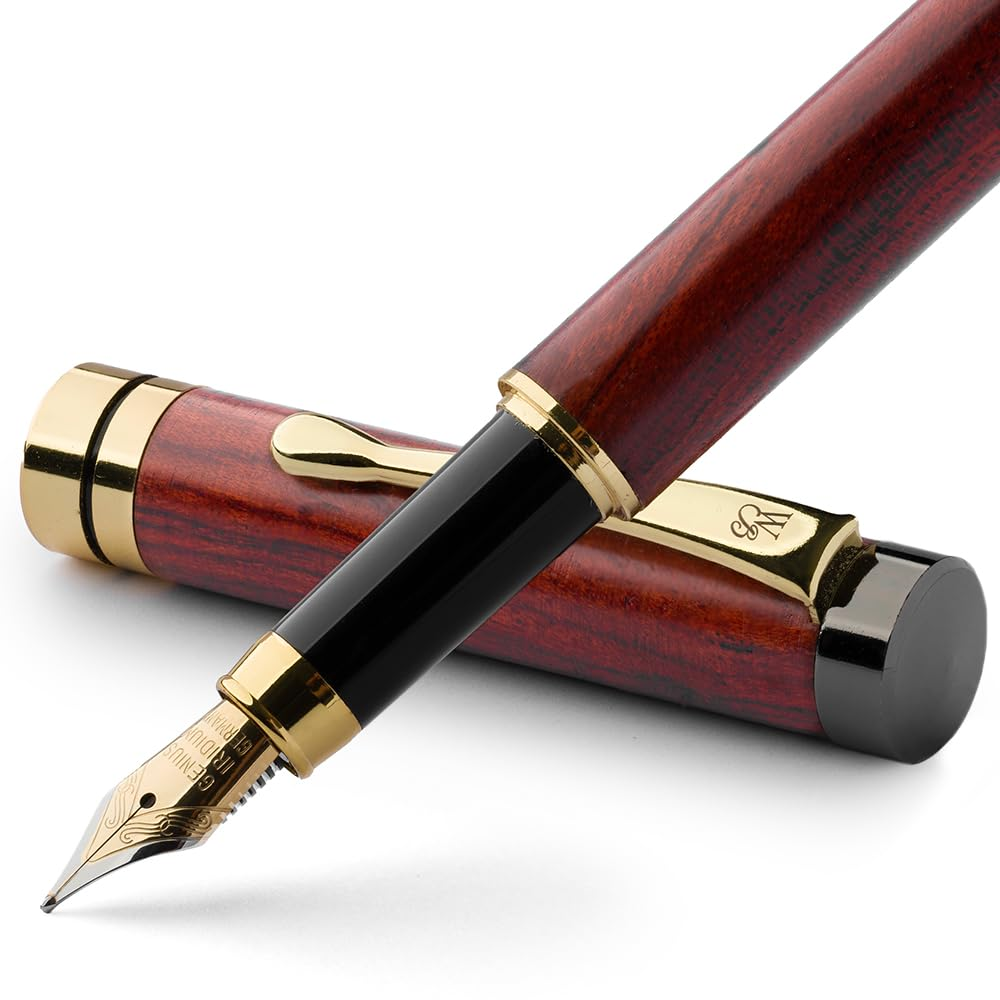pen: (22, 13, 995, 974)
